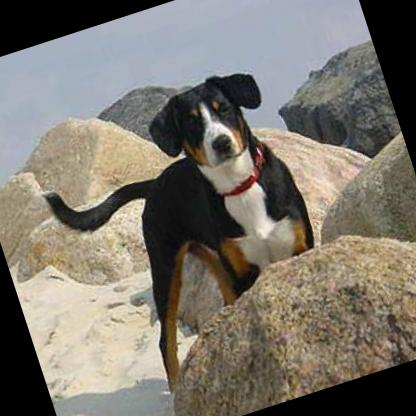EntleBucher: (26, 59, 348, 409)
